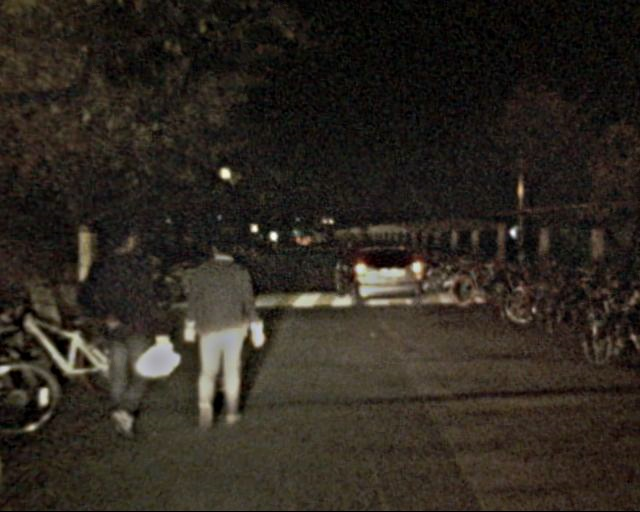person: (74, 218, 169, 436), (181, 232, 262, 432)
